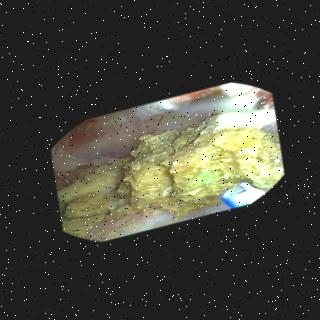fiber: (225, 184, 266, 208)
stone: (64, 116, 283, 236)
